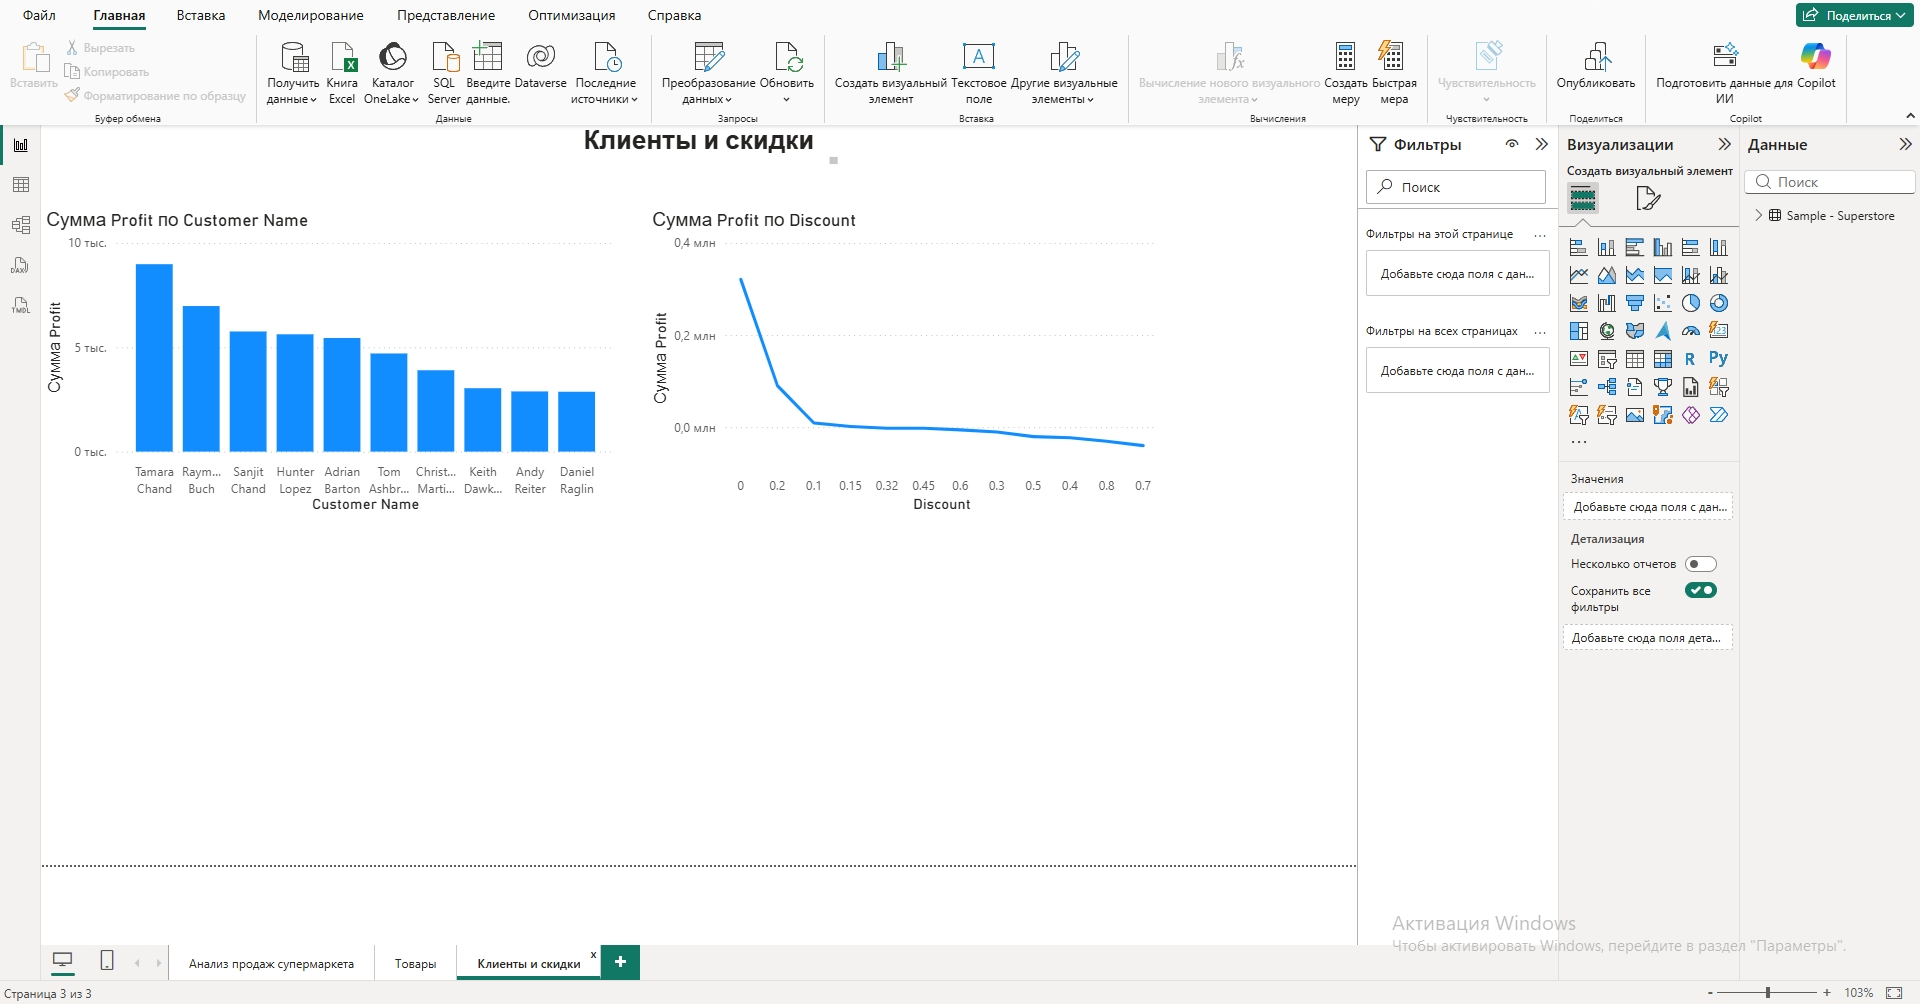

What the dashboard file says about the page in this screenshot:
{"tool":"powerbi","page":{"name":"Клиенты и скидки","canvas":[1280,720],"ordinal":2},"visuals":[{"type":"textbox","title":"Клиенты и скидки","box":[500,0,280,42.9],"z":0},{"type":"clusteredColumnChart","fields":{"Category":["Sample - Superstore.Customer Name"],"Y":["Sum(Sample - Superstore.Profit)"]},"box":[0,81.9,562.9,300],"z":1},{"type":"lineChart","fields":{"Category":["Sample - Superstore.Discount"],"Y":["Sum(Sample - Superstore.Profit)"]},"box":[589.5,81.9,501.9,300],"z":2}]}

Visuals, with their boxes on the page's 1280x720 design canvas (x1, y1, x2, y2). These are canvas units, not pixel positions in the 1920x1004 screenshot, which may show the page scaled, cropped or inside an application window:
"Клиенты и скидки" textbox: locate(500, 0, 780, 43)
clusteredColumnChart - Sample - Superstore.Customer Name x Sum(Sample - Superstore.Profit): locate(0, 82, 563, 382)
lineChart - Sample - Superstore.Discount x Sum(Sample - Superstore.Profit): locate(590, 82, 1091, 382)
